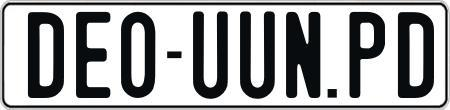0: (119, 9, 156, 96)
D: (25, 11, 65, 97), (395, 11, 433, 101)
E: (74, 10, 108, 102)
N: (285, 12, 320, 102)
P: (348, 12, 388, 100)
U: (193, 8, 233, 100), (237, 11, 273, 99)
